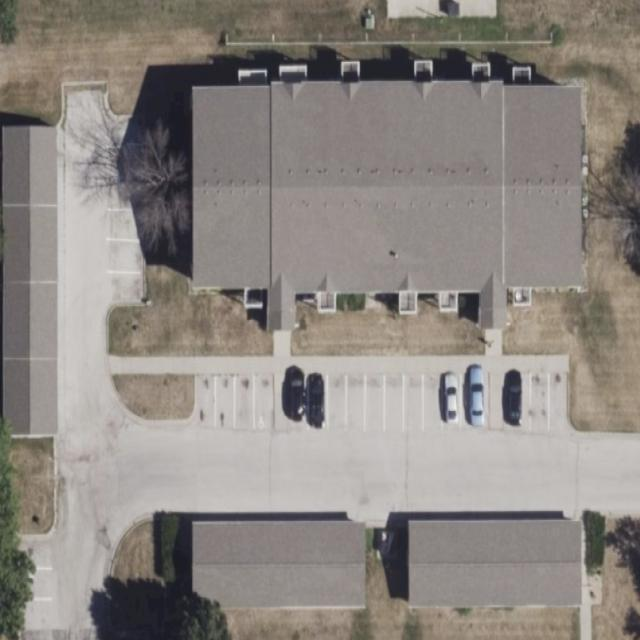Empty: (8, 535, 52, 569), (8, 568, 52, 600), (105, 239, 145, 273), (8, 599, 52, 629), (107, 272, 145, 306), (548, 373, 568, 431), (108, 208, 144, 240), (108, 176, 144, 208), (404, 376, 424, 432), (106, 118, 146, 146), (194, 374, 214, 428), (234, 376, 254, 430), (423, 374, 442, 430), (108, 148, 146, 176), (254, 378, 274, 430), (214, 376, 234, 428), (346, 376, 366, 428), (365, 378, 385, 430), (384, 378, 404, 430), (328, 376, 347, 428), (532, 376, 548, 432)
Parked: (463, 374, 489, 430), (506, 373, 530, 429), (286, 376, 308, 428), (440, 372, 460, 428), (308, 376, 328, 428)
